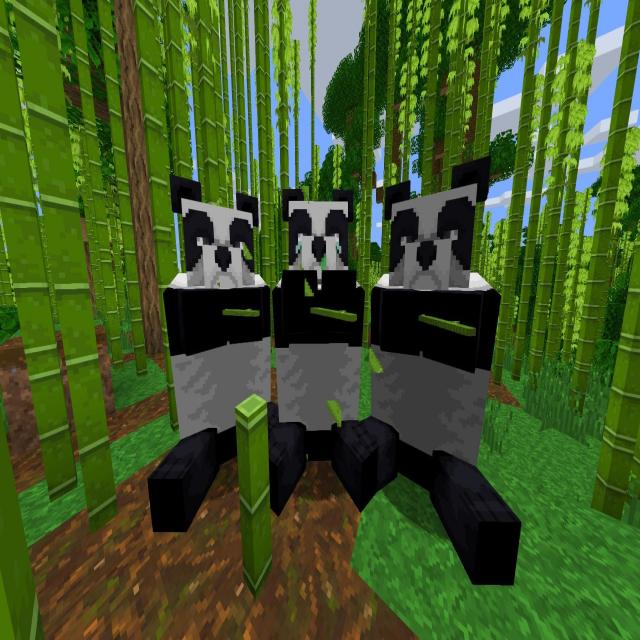Panda: (368, 153, 524, 588), (146, 170, 271, 534), (272, 185, 366, 515)
